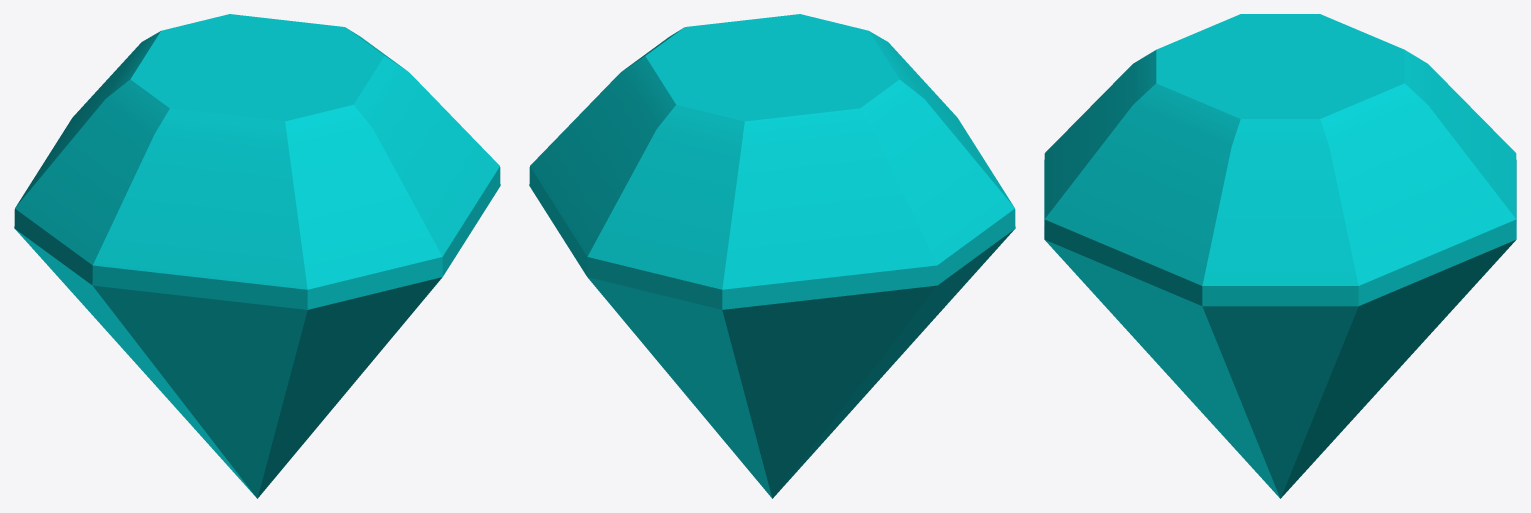
Rendered from Diamond.glb.
3 renders of one model, left to right at view 1: azimuth 30°, elevation 25°; view 2: azimuth 150°, elevation 25°; view 3: azimuth 270°, elevation 25°, orthographic.
Parts seen in each view (by area): view 1: Gem_Diamond; view 2: Gem_Diamond; view 3: Gem_Diamond.
Boxes of the visible parts, <box> form: Gem_Diamond: <box>14,14,500,498</box>; Gem_Diamond: <box>529,14,1015,498</box>; Gem_Diamond: <box>1044,14,1516,498</box>.
Size of the model in its own units: 1.5 by 1.51 by 1.5.
